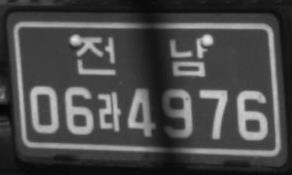0: (28, 84, 60, 135)
4: (125, 86, 157, 138)
6: (234, 89, 268, 142), (63, 84, 95, 137)
7: (198, 87, 229, 141)
9: (161, 87, 193, 140)
라: (96, 90, 122, 132)
전남_D: (72, 32, 209, 78)
